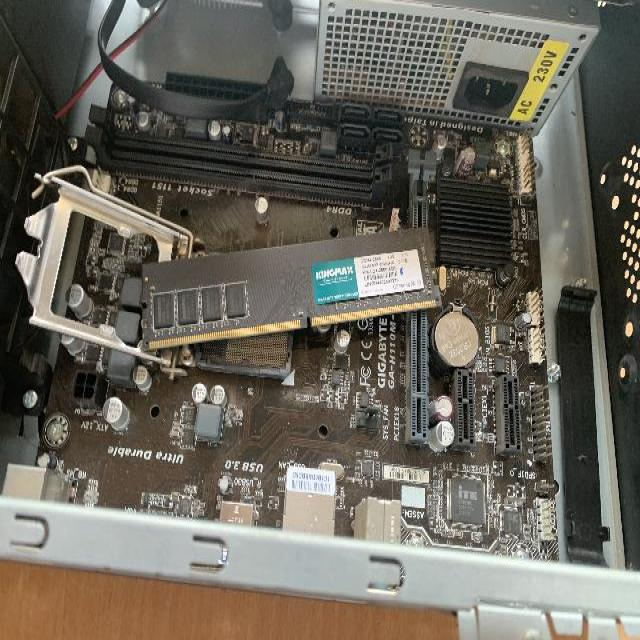Mainboard: (32, 101, 560, 560)
RAM: (139, 230, 444, 351)
